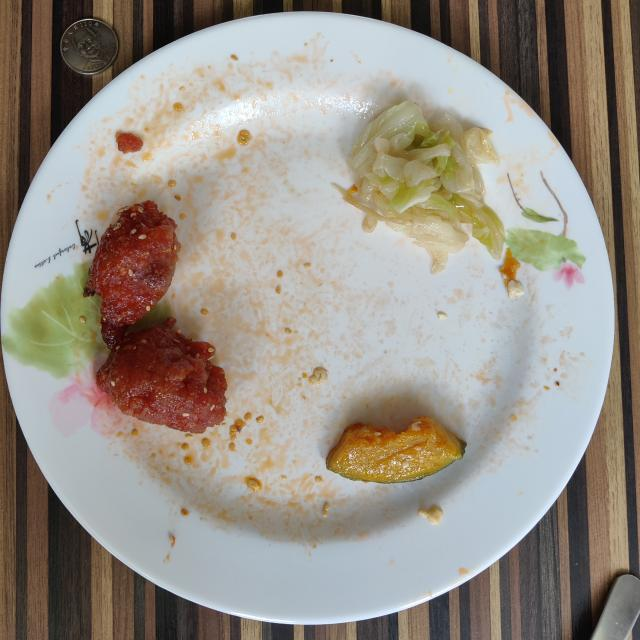cabbage: (340, 100, 505, 274)
coin: (60, 19, 119, 75)
pumpkin: (326, 416, 466, 484)
